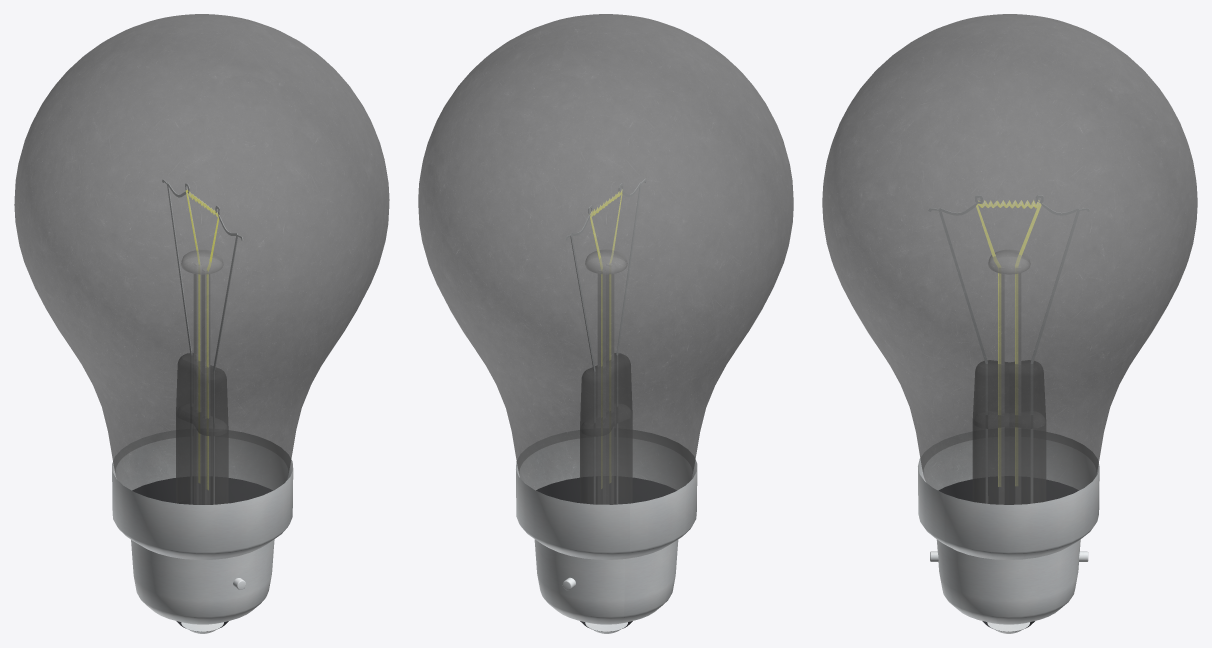
3 renders of one model, left to right at view 1: azimuth 30°, elevation 25°; view 2: azimuth 150°, elevation 25°; view 3: azimuth 270°, elevation 25°, orthographic.
Parts seen in each view (by area): view 1: Sphere.001_4, Cylinder_6, Cube_1, Sphere_2, Vert_0, Circle.001_5, Vert.001_3; view 2: Sphere.001_4, Cylinder_6, Cube_1, Sphere_2, Vert_0, Circle.001_5, Vert.001_3; view 3: Sphere.001_4, Cylinder_6, Cube_1, Sphere_2, Vert_0, Vert.001_3, Circle.001_5.
Boxes of the visible parts, left/top/right/bottom form: Sphere.001_4: left=14, top=14, right=389, bottom=504; Cylinder_6: left=112, top=430, right=293, bottom=633; Cube_1: left=176, top=353, right=228, bottom=504; Sphere_2: left=181, top=250, right=223, bottom=504; Vert_0: left=162, top=179, right=242, bottom=504; Circle.001_5: left=132, top=478, right=272, bottom=631; Vert.001_3: left=186, top=189, right=218, bottom=489; Sphere.001_4: left=418, top=14, right=793, bottom=504; Cylinder_6: left=516, top=430, right=697, bottom=633; Cube_1: left=580, top=353, right=632, bottom=504; Sphere_2: left=585, top=249, right=627, bottom=504; Vert_0: left=565, top=179, right=646, bottom=504; Circle.001_5: left=536, top=477, right=676, bottom=631; Vert.001_3: left=590, top=189, right=622, bottom=366; Sphere.001_4: left=822, top=14, right=1197, bottom=504; Cylinder_6: left=918, top=432, right=1099, bottom=633; Cube_1: left=973, top=360, right=1046, bottom=504; Sphere_2: left=988, top=249, right=1030, bottom=503; Vert_0: left=928, top=195, right=1089, bottom=503; Vert.001_3: left=976, top=200, right=1041, bottom=486; Circle.001_5: left=938, top=479, right=1078, bottom=631.
Bounding box in the file's own units: 1.41 × 2.48 × 1.41.
Materials: 6 (5 with a texture image).
